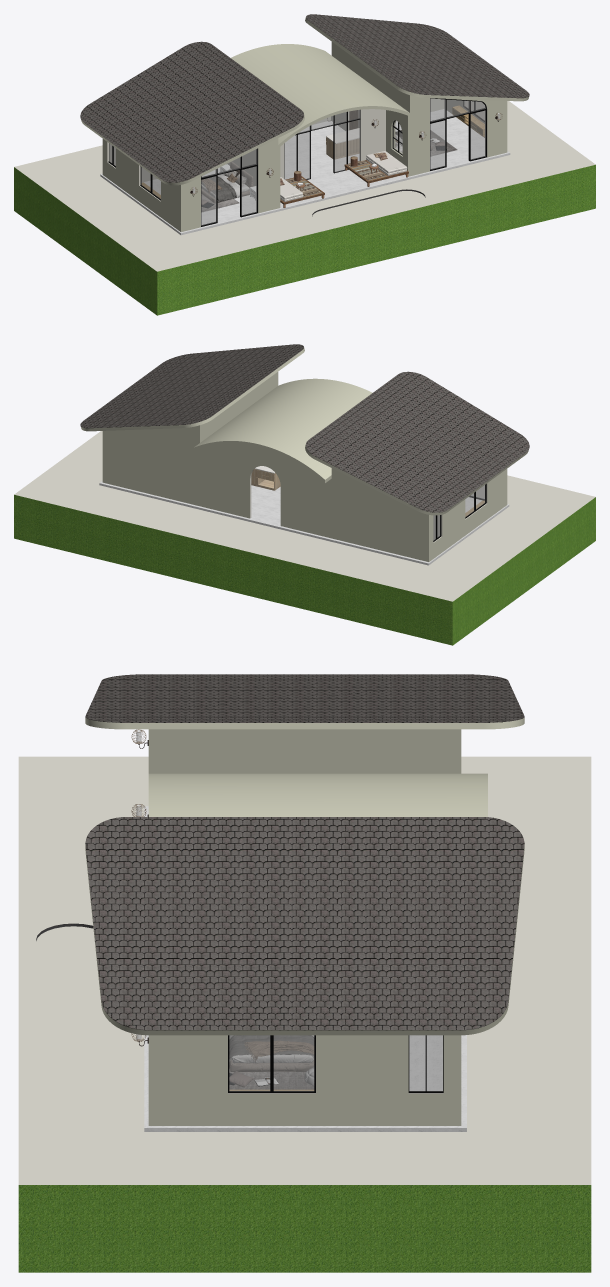
File: shelter.glb
3 views of the same model, one above another, from view 1: azimuth 30°, elevation 25°; view 2: azimuth 150°, elevation 25°; view 3: azimuth 270°, elevation 25° (orthographic). The views are drawn at different scales.
Visible parts, largest first — view 1: Group geometry (×7), Component#1 geometry, Component#255 geometry, mmjhfdgh7550 geometry, ChenZc-29316 geometry; view 2: Group geometry (×4), Component#1 geometry; view 3: Group geometry (×3), Component#1 geometry, mmjhfdgh7550 geometry, ChenZc-29316 geometry, mmjhfdgh3719 geometry.
Boxes of the visible parts, x1,y1,x2,y2 form: Group geometry (×7): [14, 17, 595, 315]; Component#1 geometry: [80, 14, 529, 182]; Component#255 geometry: [280, 151, 407, 201]; mmjhfdgh7550 geometry: [201, 130, 431, 202]; ChenZc-29316 geometry: [201, 130, 457, 212]; Group geometry (×4): [14, 347, 595, 645]; Component#1 geometry: [80, 344, 529, 512]; Group geometry (×3): [18, 717, 591, 1272]; Component#1 geometry: [85, 674, 524, 1030]; mmjhfdgh7550 geometry: [229, 1035, 314, 1062]; ChenZc-29316 geometry: [229, 1069, 314, 1089]; mmjhfdgh3719 geometry: [244, 1040, 314, 1061].
Size of the model in its own units: 23 by 7.24 by 13.
Materials: 65 (40 with a texture image).
